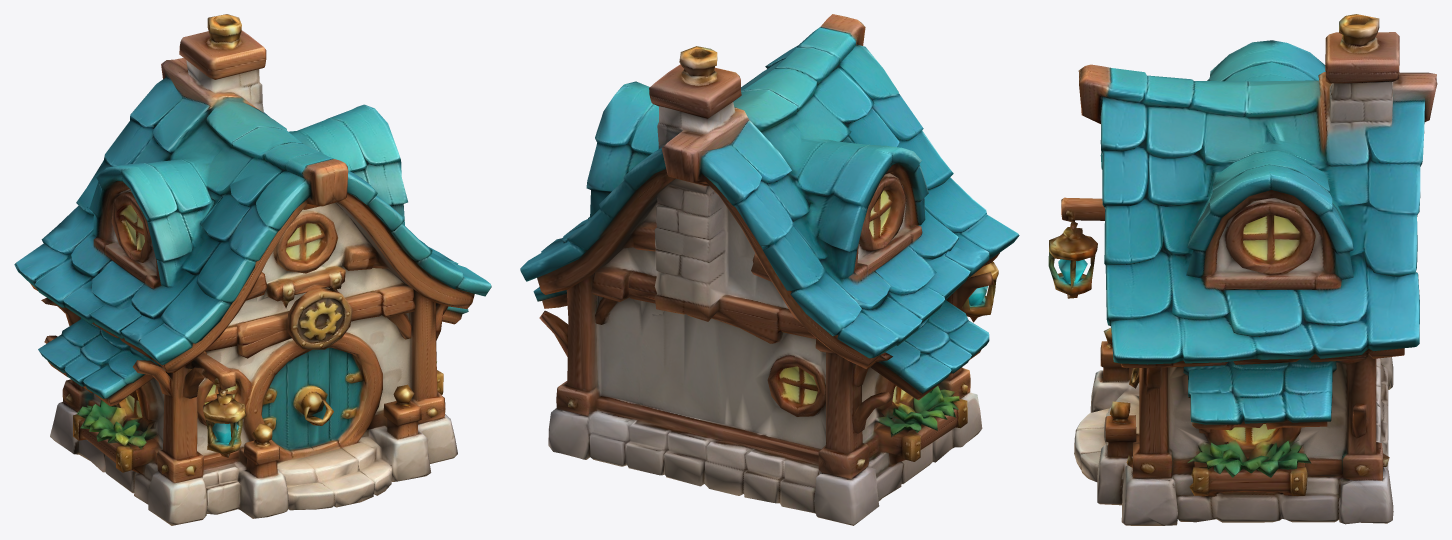
Rendered from X_HouseA_fixed.glb.
3 renders of one model, left to right at view 1: azimuth 30°, elevation 25°; view 2: azimuth 150°, elevation 25°; view 3: azimuth 270°, elevation 25°, orthographic. The views are drawn at different scales.
Visible parts, largest first — view 1: tripo_node_3b8baafd-a95c-4a15-95f3-294efa3db12c; view 2: tripo_node_3b8baafd-a95c-4a15-95f3-294efa3db12c; view 3: tripo_node_3b8baafd-a95c-4a15-95f3-294efa3db12c.
Boxes of the visible parts, bbox=[...] form: tripo_node_3b8baafd-a95c-4a15-95f3-294efa3db12c: bbox=[14, 14, 491, 525]; tripo_node_3b8baafd-a95c-4a15-95f3-294efa3db12c: bbox=[520, 14, 1019, 525]; tripo_node_3b8baafd-a95c-4a15-95f3-294efa3db12c: bbox=[1048, 14, 1437, 525].
Bounding box in the file's own units: 0.9728 × 0.9796 × 0.7888.
1 material, 1 textured.
